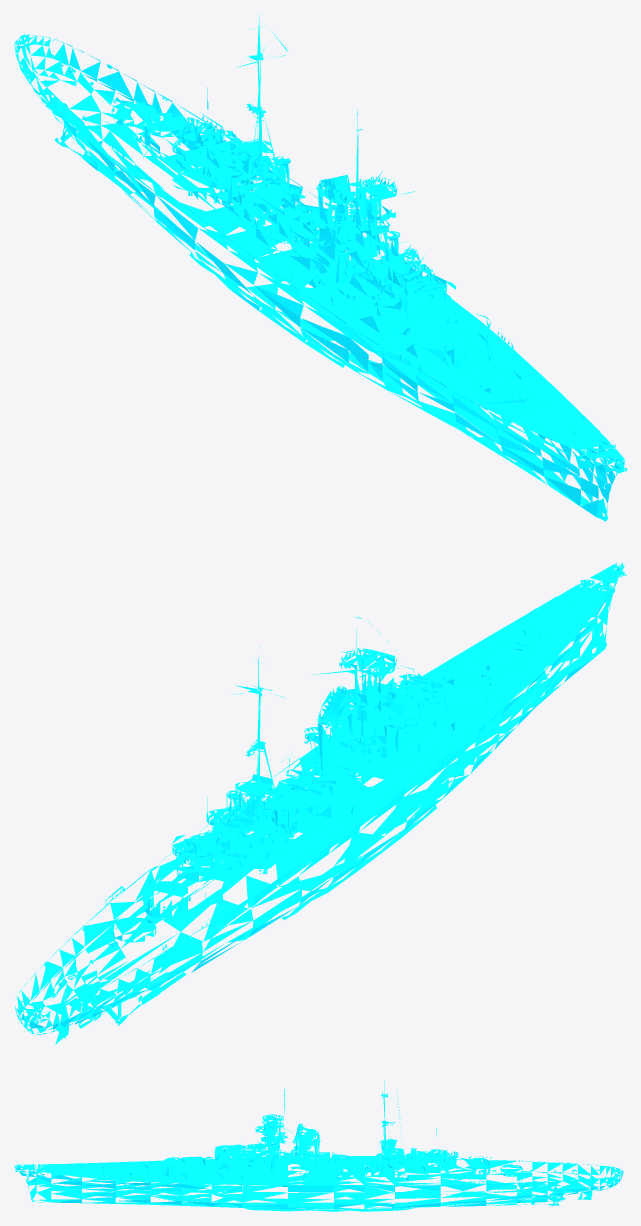
File: Hindenburg.glb
3 renders of one model, top to bottom at view 1: azimuth 30°, elevation 25°; view 2: azimuth 150°, elevation 25°; view 3: azimuth 270°, elevation 25°, orthographic. The views are drawn at different scales.
Size of the model in its own units: 1.84 by 3.57 by 15.34.
